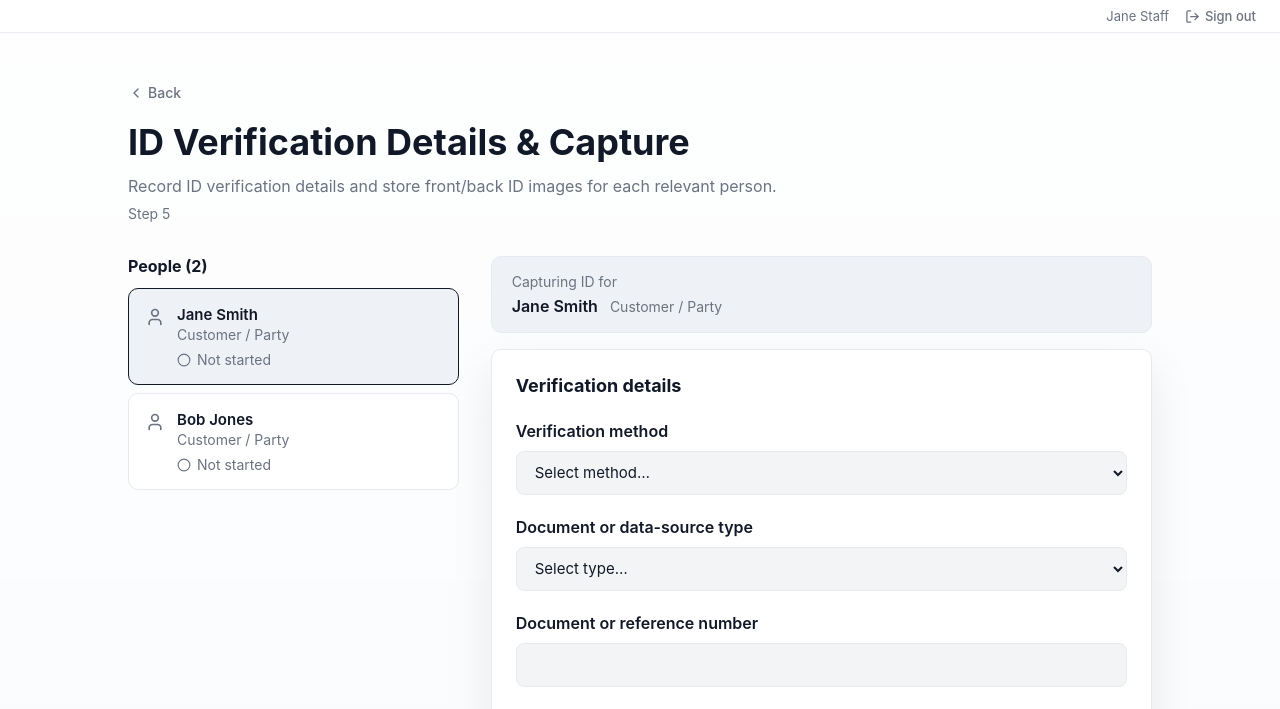
Test: IdVerificationPage › shows validation errors when document type or reference number are empty
The width and height of the screenshot is (1280, 709).
Select "Sighted original document" in the dropdown labelled "Verification method" at (821, 473), box x1=516 y1=451 x2=1127 y2=495
(page scrolled)
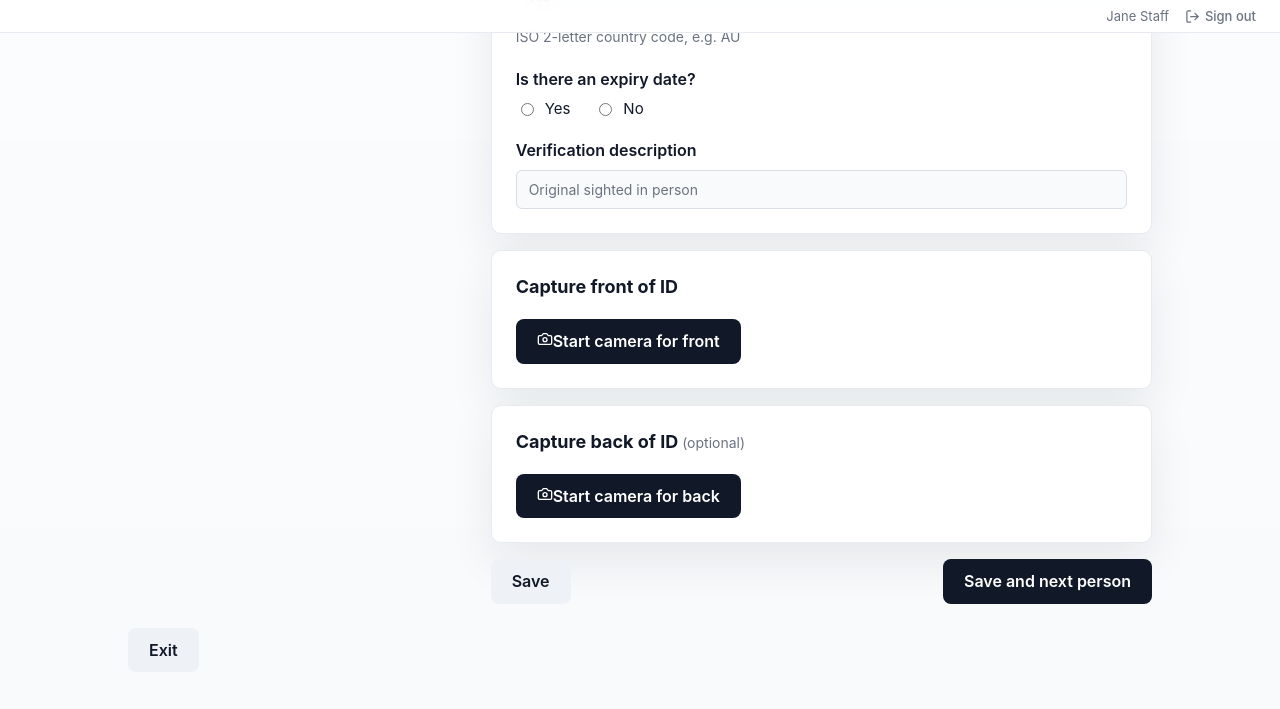
Click the button "Save" at (531, 582), box x1=491 y1=559 x2=571 y2=604
(page scrolled)
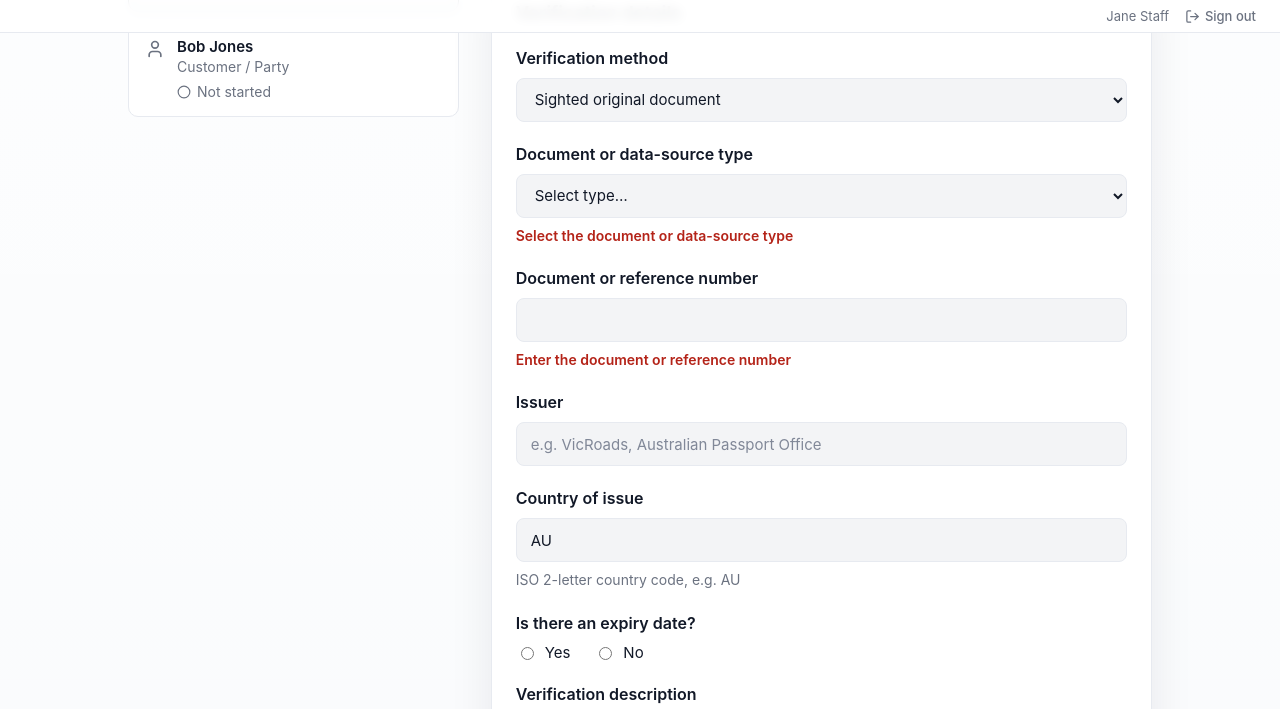
Expected: the text "Select the document or data-source type" is shown, x1=516 y1=227 x2=793 y2=244
Expected: the text "Enter the document or reference number" is shown, x1=516 y1=351 x2=791 y2=368
